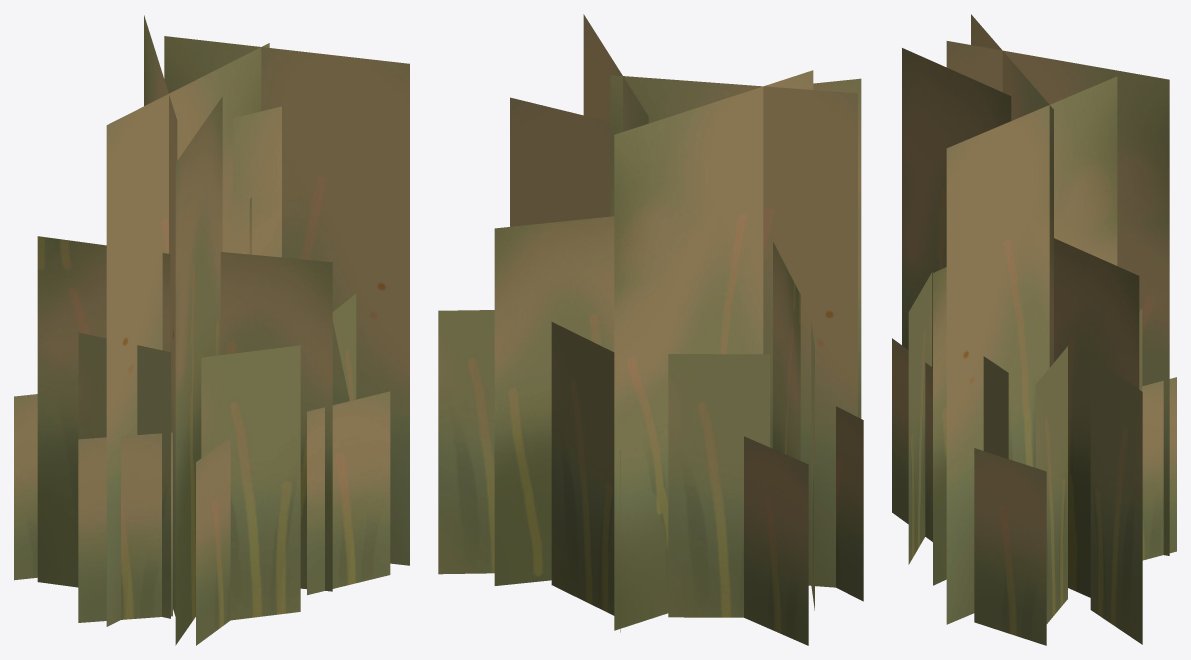
Rendered from tallGrass.glb.
3 views of the same model, side by side, from view 1: azimuth 30°, elevation 25°; view 2: azimuth 150°, elevation 25°; view 3: azimuth 270°, elevation 25° (orthographic). The views are drawn at different scales.
Parts seen in each view (by area): view 1: Object_6; view 2: Object_6; view 3: Object_6.
Part boxes in pixels (x1,y1,x2,y2): Object_6: (14, 15, 409, 645); Object_6: (438, 14, 863, 645); Object_6: (892, 14, 1176, 645).
Bounding box in the file's own units: 45.79 × 61.49 × 33.31.
Materials: 1 (1 with a texture image).
